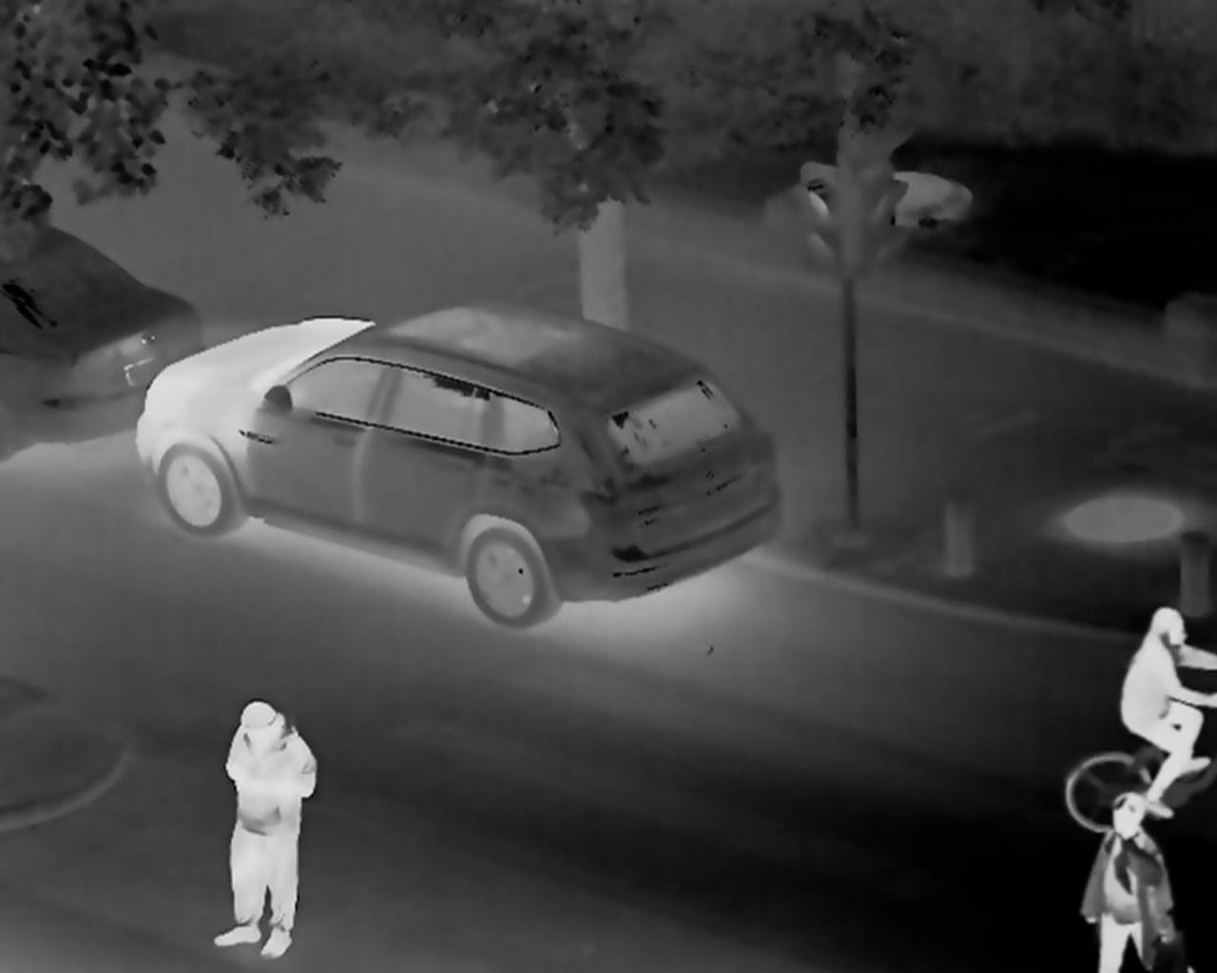person: (207, 705, 316, 959), (1117, 603, 1216, 823), (1077, 792, 1178, 973)
